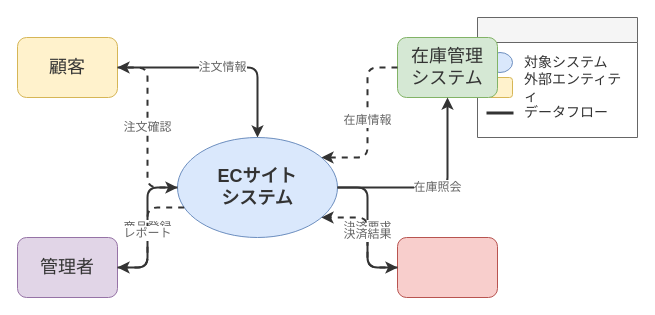
Image size: 655x315. Some labels were removed from this diagram. The box of each missing label's shape, as (x1, y1, x2, y2) in pixels:
凡例: (476, 16, 638, 138)
決済 システム: (396, 236, 498, 298)
